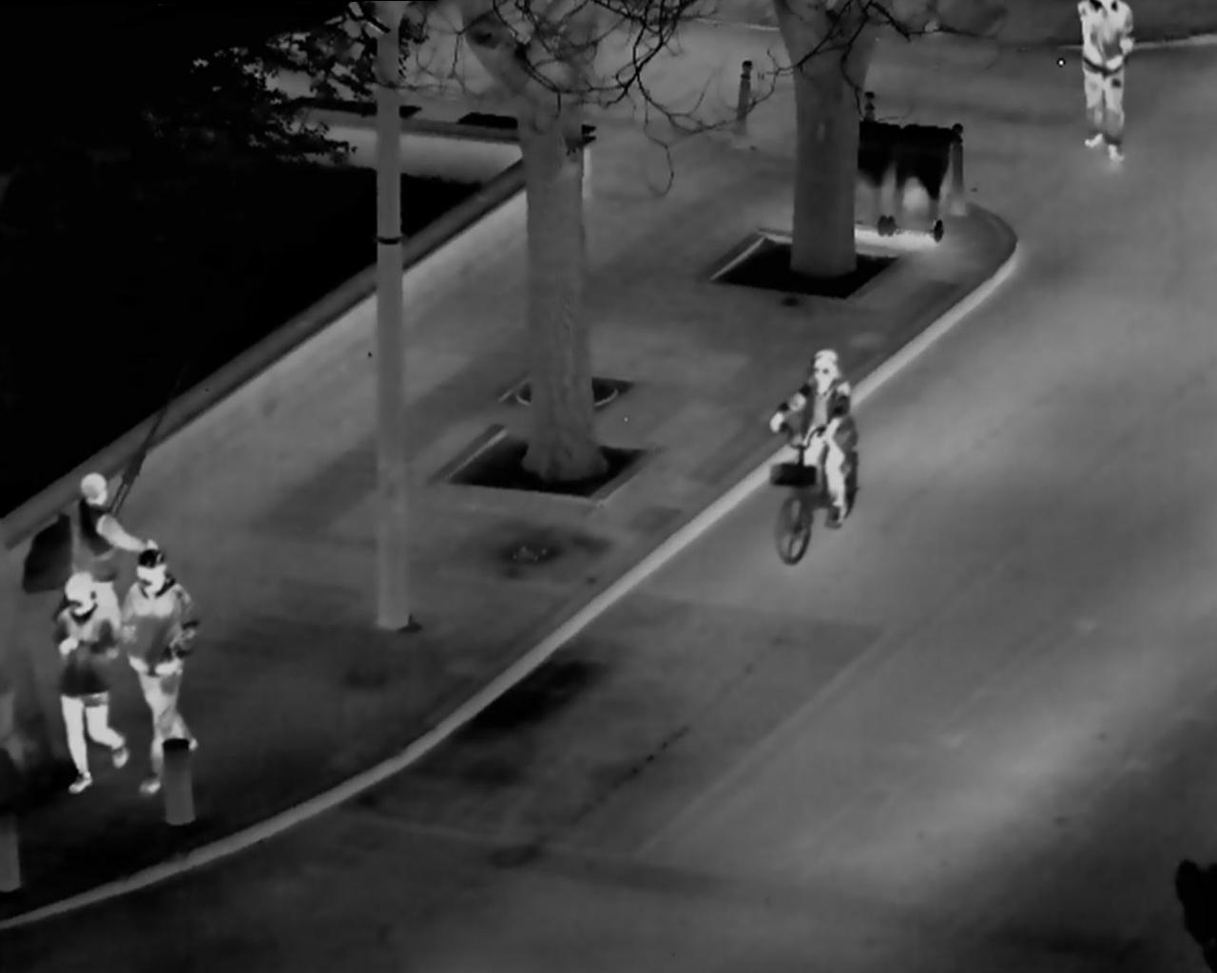person: (761, 344, 878, 552), (111, 549, 220, 766), (37, 568, 133, 794), (42, 467, 167, 612), (1068, 4, 1149, 173)
